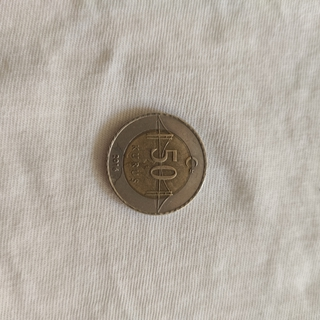50KURUS: (104, 110, 207, 216)
